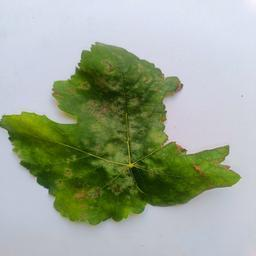Powdery-Mildew: (94, 145, 141, 179), (93, 98, 127, 136), (149, 125, 166, 142), (86, 188, 103, 205), (100, 58, 116, 75), (124, 121, 140, 138), (189, 159, 205, 176)
